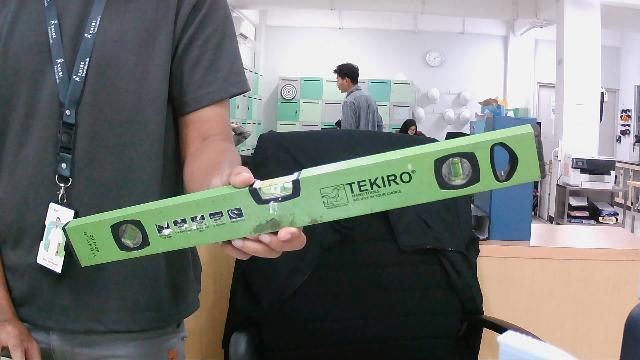water_pass: (59, 113, 557, 275)
